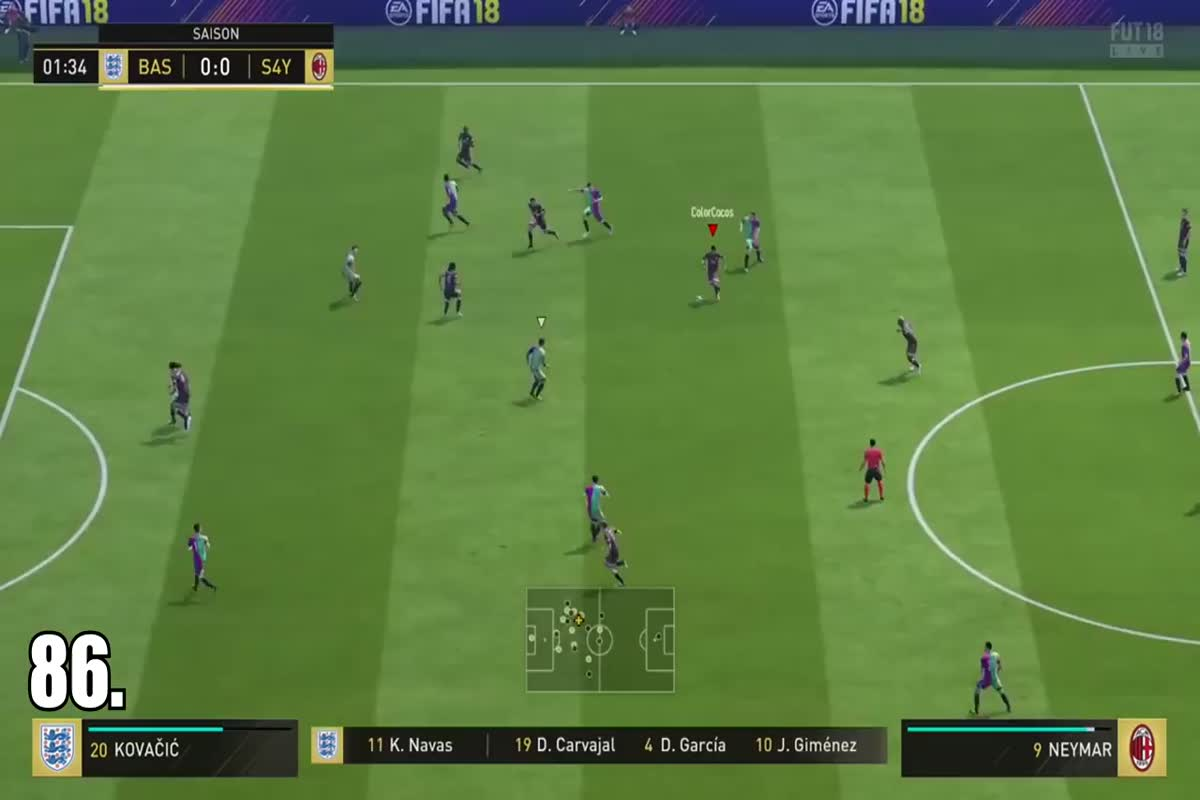ball: (688, 288, 709, 308)
